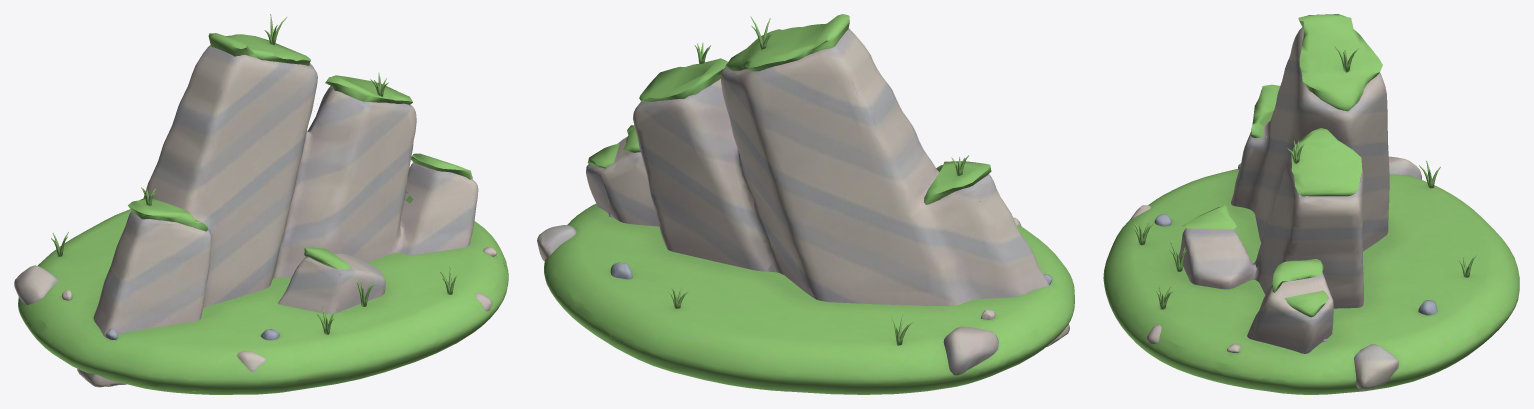
Rendered from afloramiento.glb.
3 renders of one model, left to right at view 1: azimuth 30°, elevation 25°; view 2: azimuth 150°, elevation 25°; view 3: azimuth 270°, elevation 25°, orthographic. The views are drawn at different scales.
Visible parts, largest first — view 1: rocky-outcrop_body; view 2: rocky-outcrop_body; view 3: rocky-outcrop_body.
Part boxes in pixels (x1,y1,x2,y2): rocky-outcrop_body: [14, 14, 508, 394]; rocky-outcrop_body: [537, 14, 1074, 394]; rocky-outcrop_body: [1103, 14, 1519, 394].
Size of the model in its own units: 4.17 by 2.47 by 3.42.
Materials: 1 (1 with a texture image).
